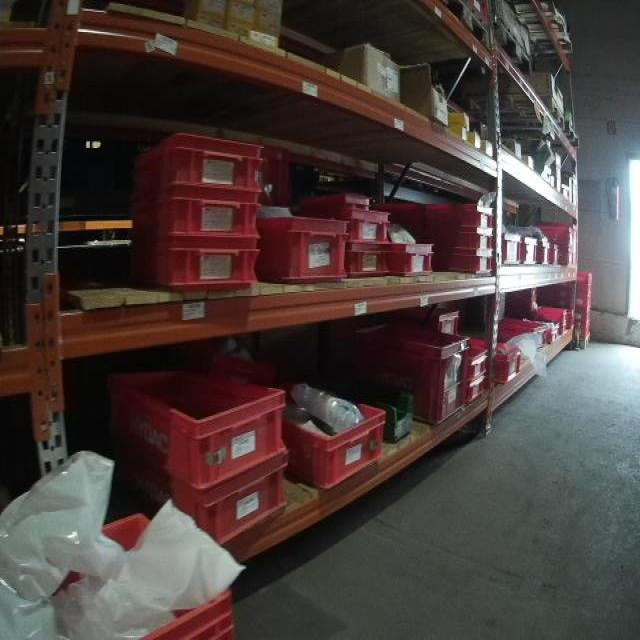pallet: (334, 3, 494, 63), (460, 94, 563, 143), (482, 120, 581, 154), (491, 21, 539, 87)
small_load_carrier: (99, 355, 290, 491), (37, 511, 241, 636), (114, 456, 290, 547), (280, 378, 389, 491), (356, 323, 470, 429), (127, 127, 265, 195), (122, 192, 268, 245), (254, 209, 349, 289), (124, 238, 258, 293), (382, 195, 494, 232), (294, 209, 394, 240), (495, 313, 547, 356), (433, 251, 495, 285), (345, 240, 394, 282), (486, 343, 527, 393), (420, 226, 494, 252), (392, 242, 440, 282), (296, 189, 372, 214), (464, 369, 502, 413), (459, 335, 493, 382), (424, 301, 462, 339), (537, 222, 578, 246), (501, 231, 522, 267), (540, 303, 568, 330), (541, 319, 564, 350), (518, 232, 535, 266), (532, 235, 552, 262), (554, 250, 575, 272), (576, 275, 593, 294), (576, 294, 594, 310), (575, 310, 593, 325), (575, 325, 592, 339), (565, 311, 574, 329)
